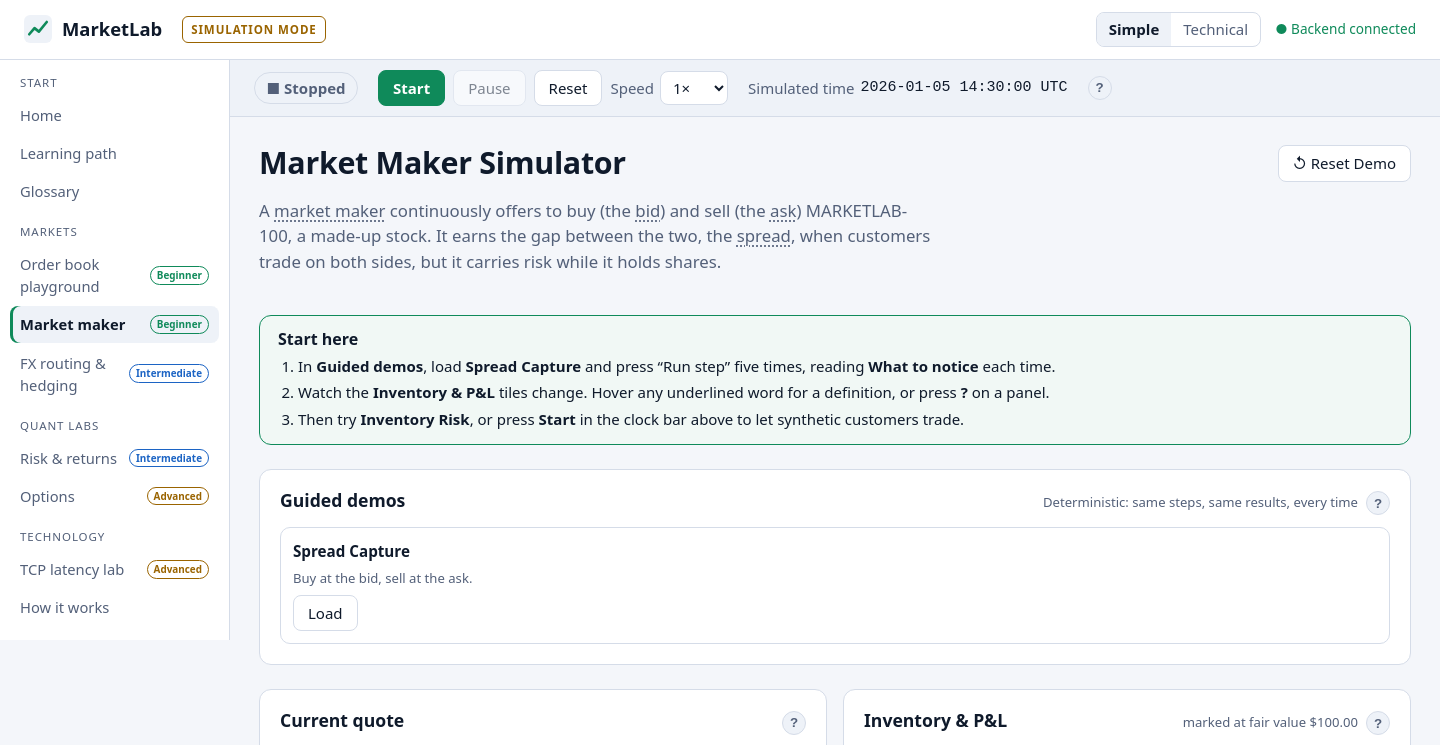
App shell › Technical view reveals tick and seed; Simple view hides them
The image size is (1440, 745).
Click the button "Technical" at (1216, 29), box [1171, 13, 1260, 46]
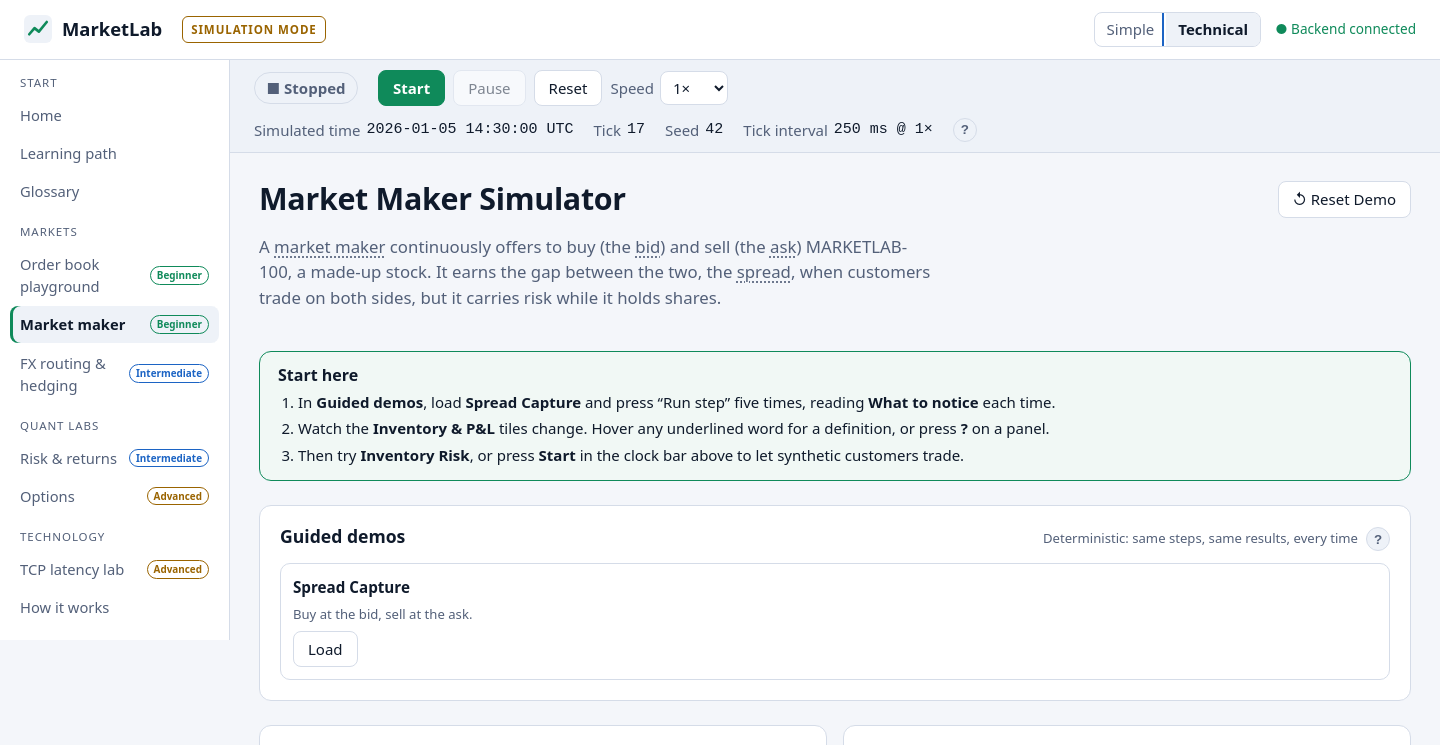
expect the text with test id "sim-tick" reads "17": met, box [627, 121, 645, 138]
